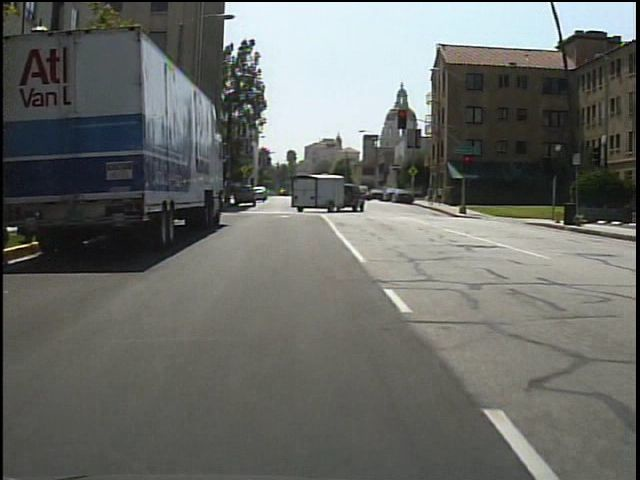person: (435, 184, 447, 210), (426, 185, 437, 209)
